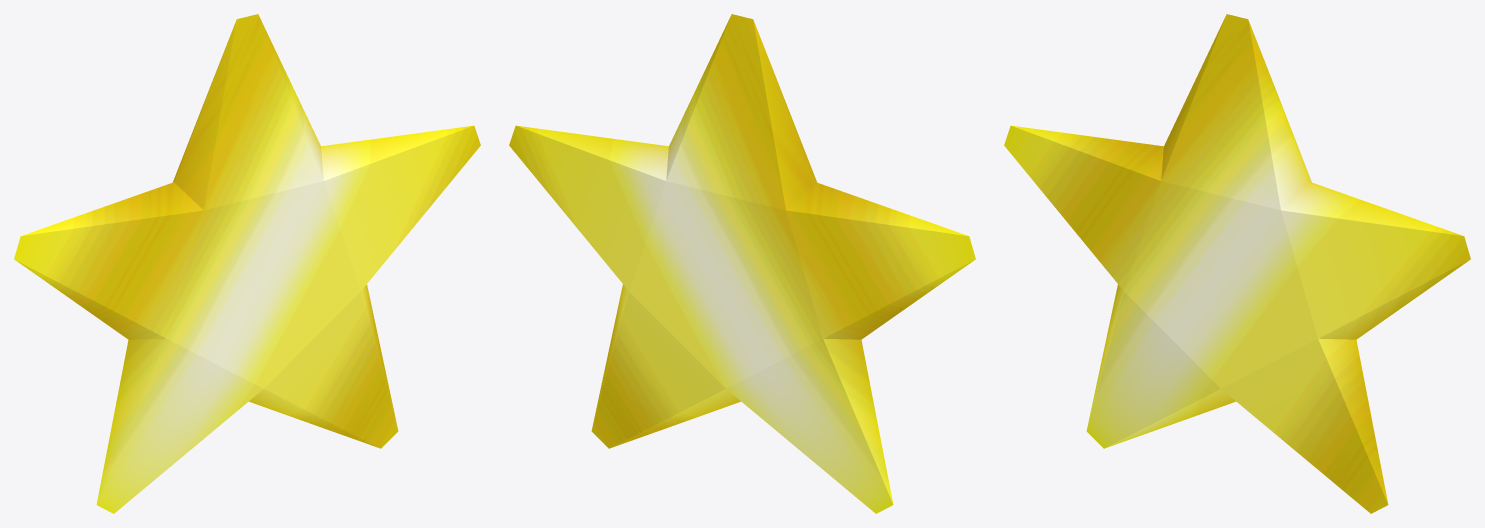
File: rainbow_course-RainStar.glb
3 renders of one model, left to right at view 1: azimuth 30°, elevation 25°; view 2: azimuth 150°, elevation 25°; view 3: azimuth 330°, elevation 25°, orthographic.
Parts seen in each view (by area): view 1: RainStar; view 2: RainStar; view 3: RainStar.
Boxes of the visible parts, bbox=[...] form: RainStar: bbox=[14, 14, 480, 513]; RainStar: bbox=[509, 14, 975, 513]; RainStar: bbox=[1004, 14, 1470, 513].
Size of the model in its own units: 17.48 by 16.62 by 2.12.
1 material, 1 textured.
